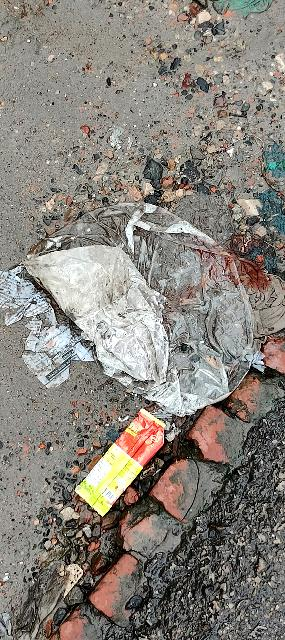polythene: (7, 197, 285, 408)
